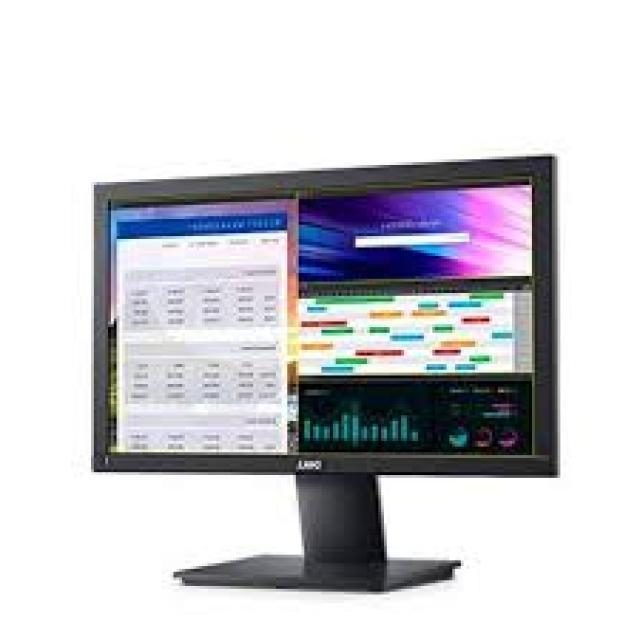monitor: (33, 138, 587, 632)
